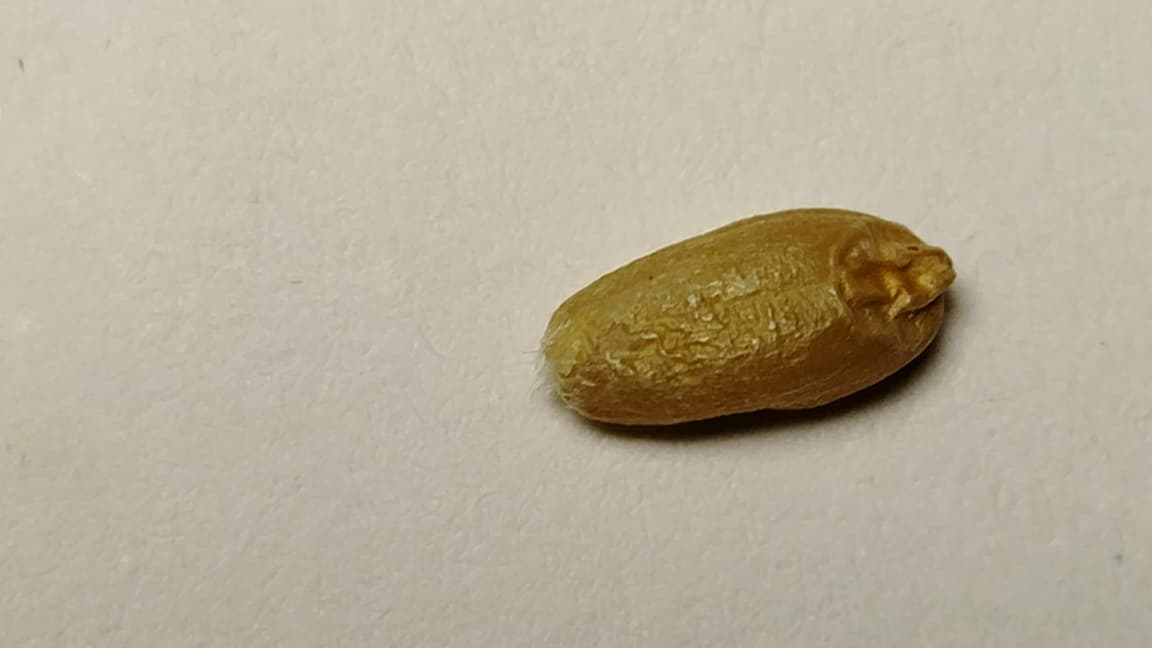healthy: (542, 207, 955, 423)
